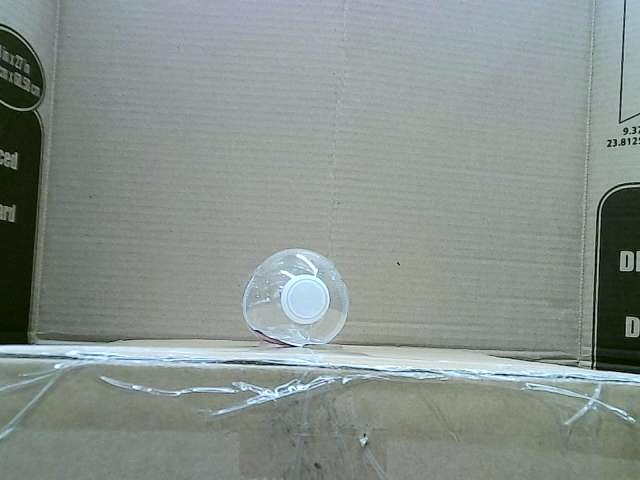WaterBottle: (242, 247, 350, 346)
